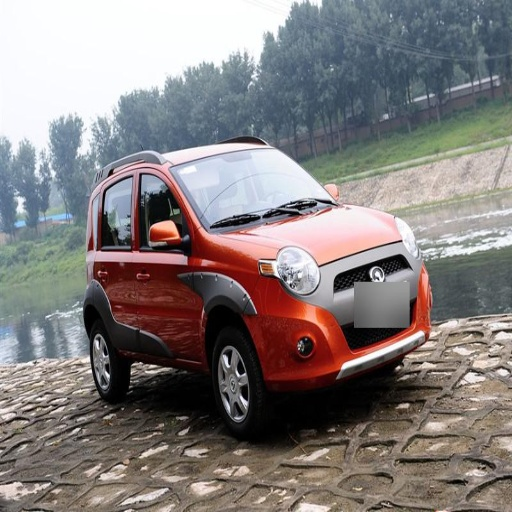front_bumper: (250, 243, 425, 386)
front_right_door: (131, 166, 199, 356)
front_right_light: (260, 247, 319, 298)
